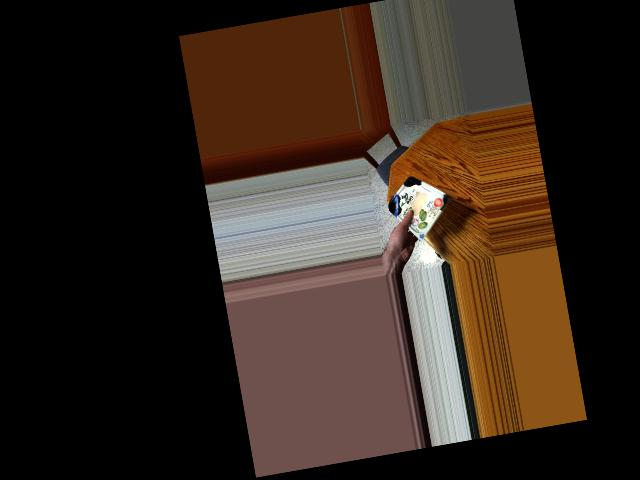cheese: (384, 177, 447, 233)
